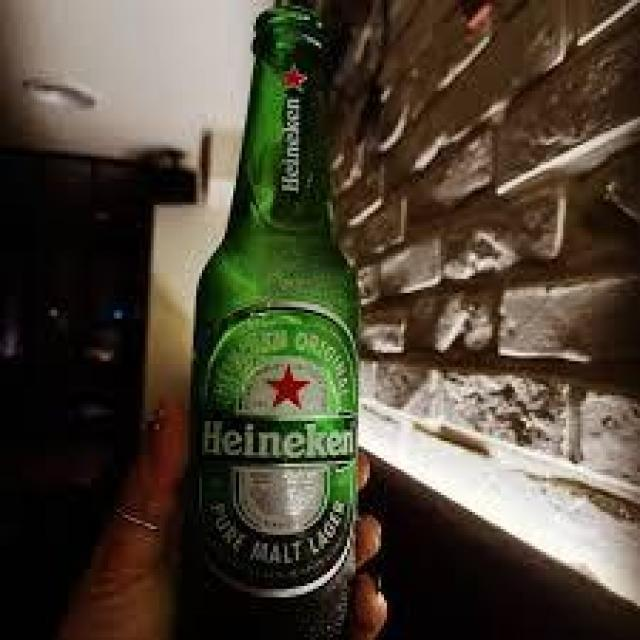beer-bottle: (179, 2, 376, 628)
